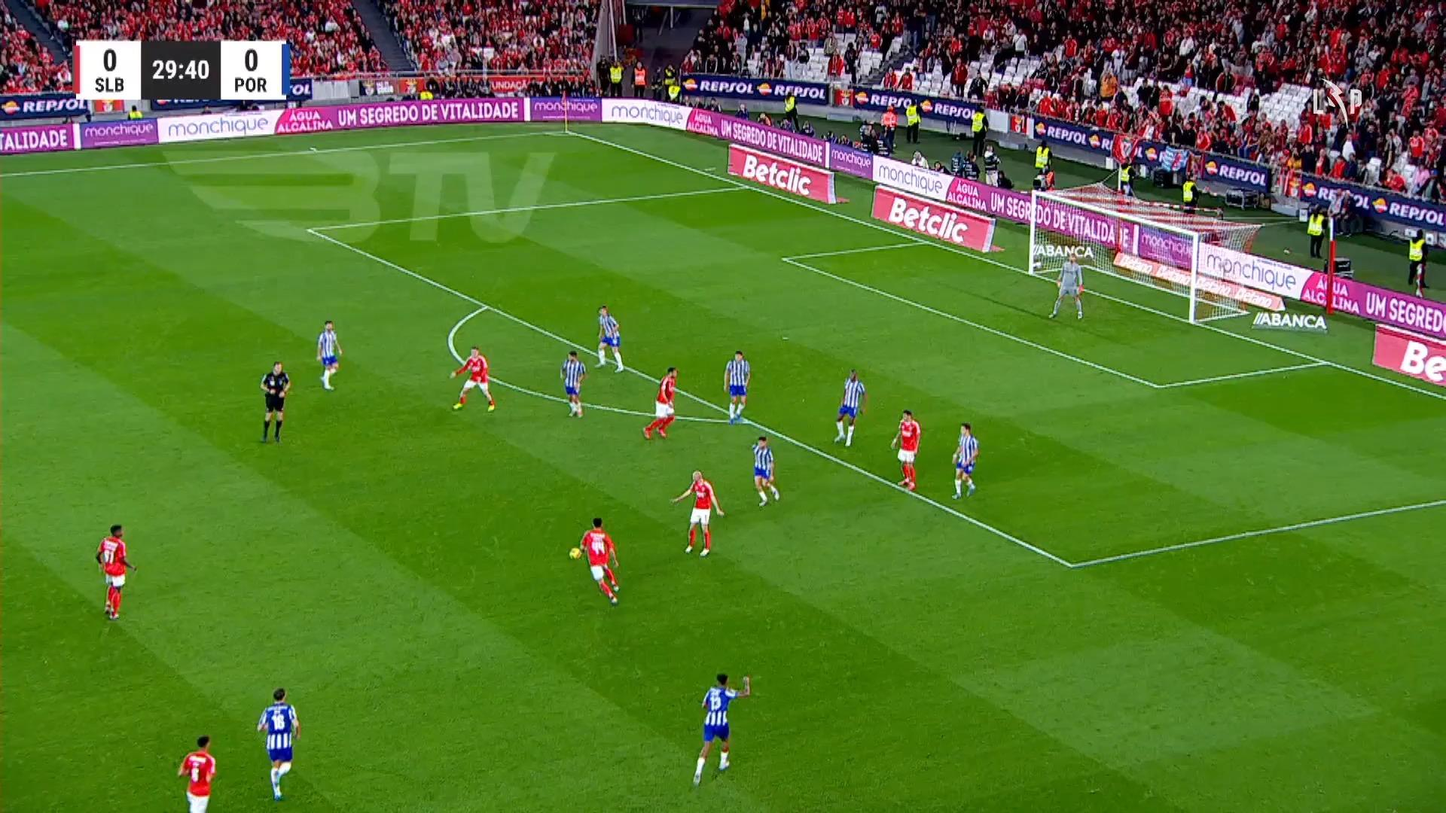ball: (568, 547, 581, 559)
goalkeeper: (1048, 251, 1084, 320)
player: (691, 671, 751, 785), (255, 687, 300, 799), (670, 470, 725, 556), (95, 523, 136, 620), (579, 516, 621, 605), (449, 345, 496, 412), (177, 734, 216, 811), (641, 365, 679, 440), (889, 409, 921, 492), (832, 368, 865, 447), (950, 422, 979, 500), (722, 349, 751, 424), (750, 434, 779, 507), (594, 305, 624, 372), (316, 320, 342, 391), (559, 349, 585, 417)
referee: (259, 361, 290, 443)
